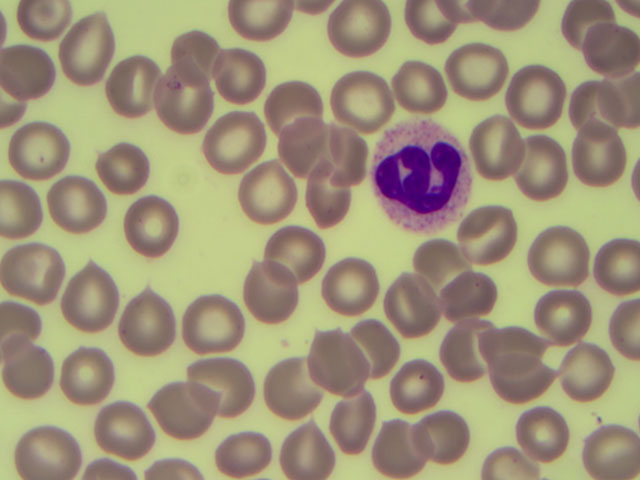RBC: (62, 9, 116, 89), (154, 61, 213, 130), (332, 62, 392, 127), (150, 378, 218, 435), (529, 224, 591, 285), (188, 357, 256, 412), (178, 296, 244, 352), (306, 173, 367, 233), (203, 112, 262, 172), (66, 258, 115, 327), (308, 335, 368, 390), (245, 261, 299, 322), (1, 242, 58, 299), (104, 55, 160, 113), (93, 400, 156, 451), (123, 195, 177, 254), (17, 426, 81, 475), (120, 292, 175, 349), (264, 80, 324, 132), (516, 133, 570, 189), (330, 1, 387, 54), (241, 170, 298, 223), (322, 259, 377, 313), (264, 228, 322, 279), (1, 41, 54, 96), (443, 323, 491, 383), (330, 387, 376, 449), (470, 120, 523, 173), (279, 119, 335, 169), (584, 20, 640, 70), (505, 68, 561, 118), (449, 43, 505, 93), (482, 323, 538, 373), (536, 294, 592, 344), (265, 364, 321, 414), (343, 321, 399, 371), (382, 280, 438, 330), (439, 273, 495, 323), (461, 207, 517, 257), (570, 80, 626, 130), (571, 134, 627, 184), (491, 355, 547, 405), (584, 428, 640, 478), (516, 404, 572, 454), (387, 359, 443, 409), (412, 239, 468, 289), (209, 426, 265, 476), (278, 426, 334, 476), (377, 420, 433, 470), (417, 411, 473, 461), (559, 1, 615, 50), (396, 1, 452, 50), (562, 347, 614, 398), (11, 1, 79, 39), (230, 1, 291, 42), (98, 145, 150, 191), (218, 49, 270, 95), (68, 356, 120, 402), (51, 183, 103, 229), (1, 181, 42, 239), (10, 124, 62, 169), (476, 443, 539, 480), (1, 346, 51, 392), (1, 306, 51, 352), (174, 33, 213, 90), (596, 241, 640, 291), (608, 294, 640, 361), (394, 67, 442, 108), (475, 1, 540, 28), (1, 79, 24, 137), (81, 458, 136, 480), (143, 460, 202, 480), (618, 1, 640, 25)
WBC: (374, 121, 468, 223)
